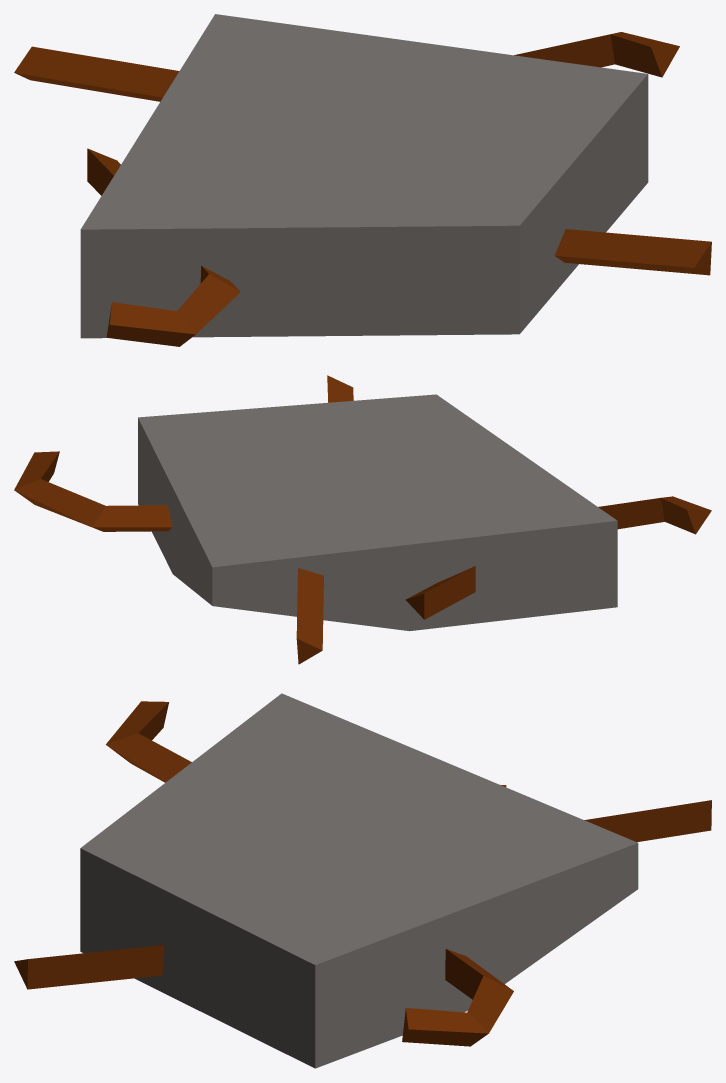
Rendered from Rubble3.glb.
3 views of the same model, one above another, from view 1: azimuth 30°, elevation 25°; view 2: azimuth 150°, elevation 25°; view 3: azimuth 270°, elevation 25° (orthographic). The views are drawn at different scales.
Parts seen in each view (by area): view 1: Rubble2; view 2: Rubble2; view 3: Rubble2.
Part boxes in pixels (box(x1,y1,x2,y2)): Rubble2: box(14, 14, 711, 346); Rubble2: box(14, 375, 711, 664); Rubble2: box(14, 693, 711, 1068).
Bounding box in the file's own units: 1.21 × 0.1767 × 1.08.
